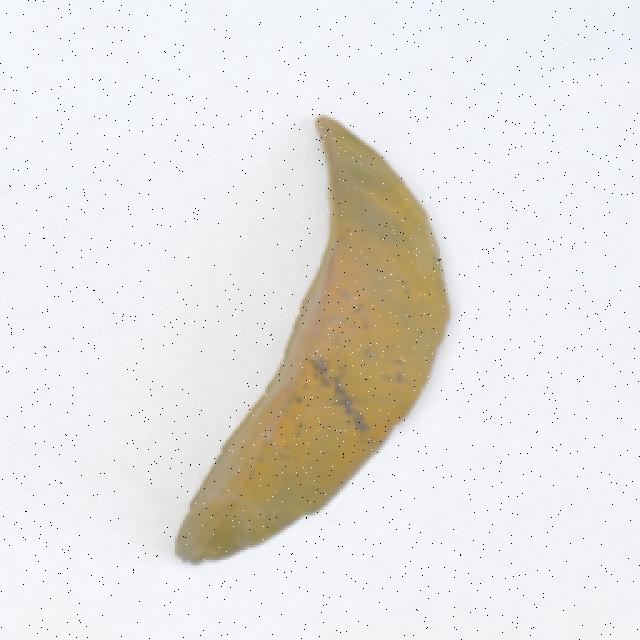greening: (171, 117, 478, 572)
